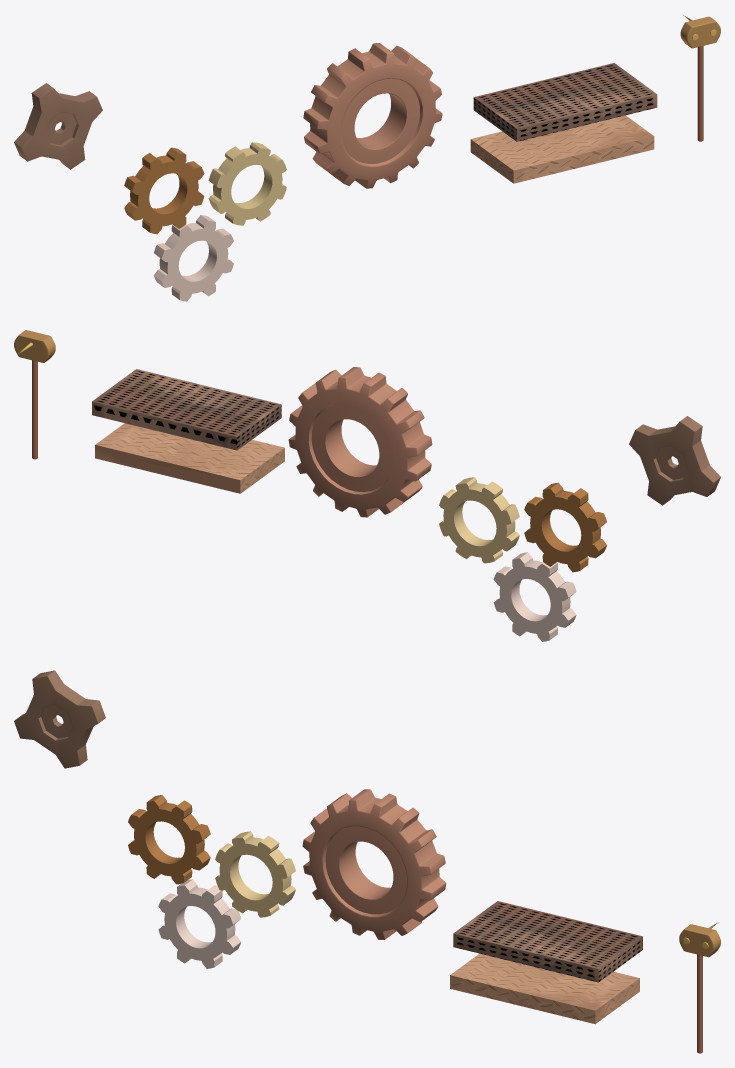
File: Clock.fbx
3 renders of one model, top to bottom at view 1: azimuth 30°, elevation 25°; view 2: azimuth 150°, elevation 25°; view 3: azimuth 330°, elevation 25°, orthographic. The views are drawn at different scales.
Visible parts, largest first — view 1: decorative gears.001, Iron mesh floor, iron floor, decorative gears, decorative gears.003, decorative gears.004, decorative gears.002, 立方體, 圓柱體; view 2: decorative gears.001, Iron mesh floor, iron floor, decorative gears, decorative gears.003, decorative gears.004, decorative gears.002, 立方體, 圓柱體; view 3: decorative gears.001, Iron mesh floor, iron floor, decorative gears, decorative gears.003, decorative gears.004, decorative gears.002, 立方體.
Part boxes in pixels (x1,y1,x2,y2): decorative gears.001: (303,43,442,188); Iron mesh floor: (473,63,657,141); iron floor: (470,115,654,183); decorative gears: (14,83,102,169); decorative gears.003: (124,147,204,234); decorative gears.004: (154,215,233,301); decorative gears.002: (208,142,286,225); 立方體: (680,16,720,48); 圓柱體: (697,46,703,141); decorative gears.001: (288,367,432,517); Iron mesh floor: (92,369,281,450); iron floor: (95,423,284,493); decorative gears: (629,416,720,505); decorative gears.003: (524,482,606,572); decorative gears.004: (493,552,576,641); decorative gears.002: (439,477,519,563); 立方體: (14,330,55,362); 圓柱體: (32,360,37,459); decorative gears.001: (302,789,446,939); Iron mesh floor: (453,901,642,982); iron floor: (450,953,639,1024); decorative gears: (14,670,105,768); decorative gears.003: (128,795,210,884); decorative gears.004: (158,879,241,968); decorative gears.002: (215,831,295,917); 立方體: (679,924,720,957).
Bounding box in the file's own units: 5077 × 1729 × 586.
